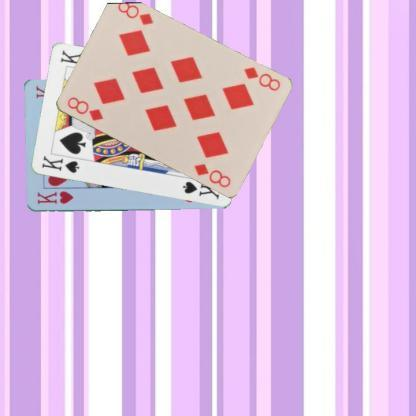8d: (240, 64, 282, 93), (64, 94, 104, 123)
Kh: (35, 189, 74, 206)
Ks: (38, 153, 80, 175)
